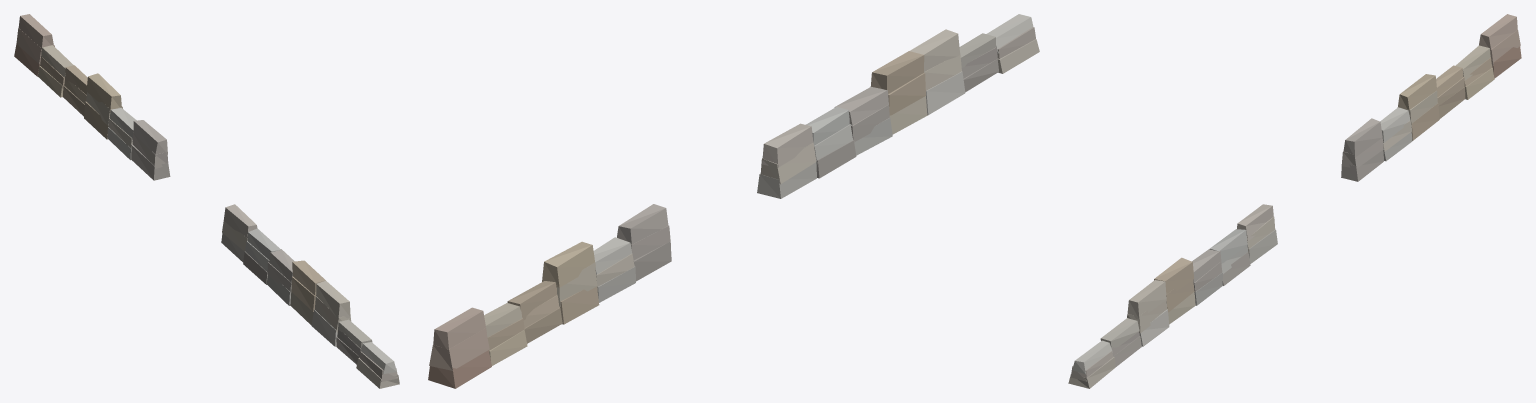
Rendered from farm_-3_1_mid.glb.
3 renders of one model, left to right at view 1: azimuth 30°, elevation 25°; view 2: azimuth 150°, elevation 25°; view 3: azimuth 330°, elevation 25°, orthographic. The views are drawn at different scales.
Parts seen in each view (by area): view 1: geometry_0; view 2: geometry_0; view 3: geometry_0.
Part boxes in pixels (bbox=[...]): geometry_0: bbox=[14, 14, 399, 388]; geometry_0: bbox=[428, 14, 1039, 388]; geometry_0: bbox=[1068, 14, 1521, 388].
Bounding box in the file's own units: 1.7 × 2.72 × 24.57.
